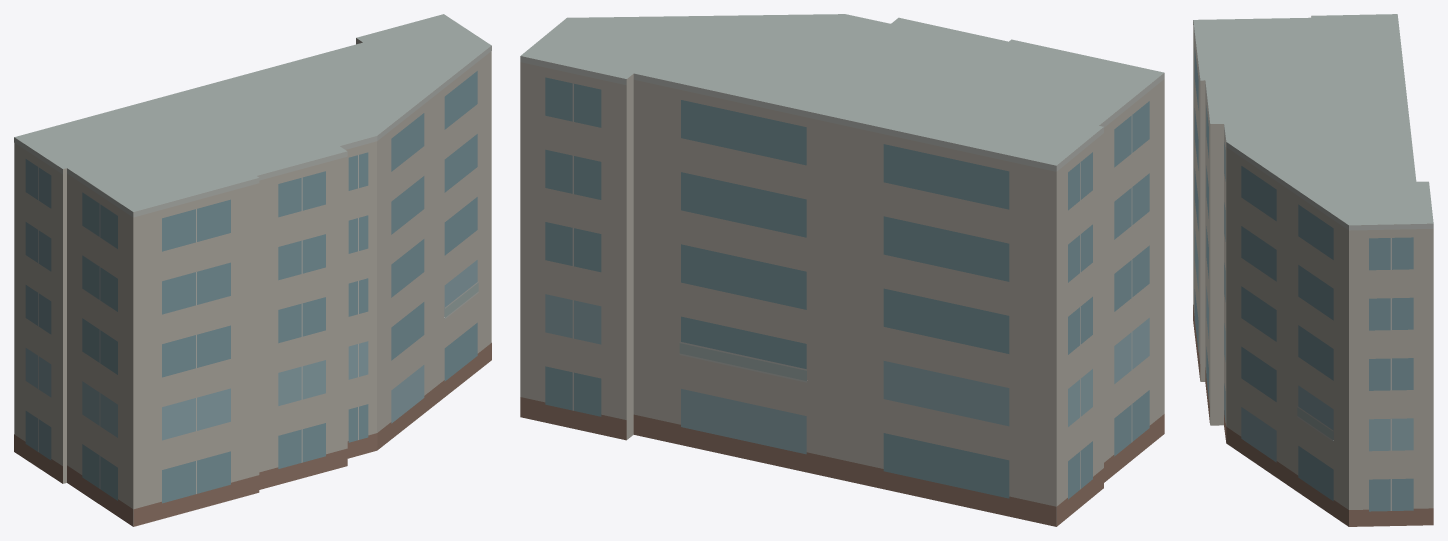
The model's file is survey-upis-32537667.glb.
The picture shows the model from 3 angles, left to right: view 1: azimuth 30°, elevation 25°; view 2: azimuth 150°, elevation 25°; view 3: azimuth 270°, elevation 25°; orthographic projection. The views are drawn at different scales.
Visible parts, largest first — view 1: survey-upis-32537667.tmp; view 2: survey-upis-32537667.tmp; view 3: survey-upis-32537667.tmp.
Part boxes in pixels (box(x1,y1,x2,y2)): survey-upis-32537667.tmp: box(14, 14, 491, 526); survey-upis-32537667.tmp: box(520, 14, 1164, 526); survey-upis-32537667.tmp: box(1193, 14, 1433, 526).
Bounding box in the file's own units: 21.51 × 14.3 × 10.34.
